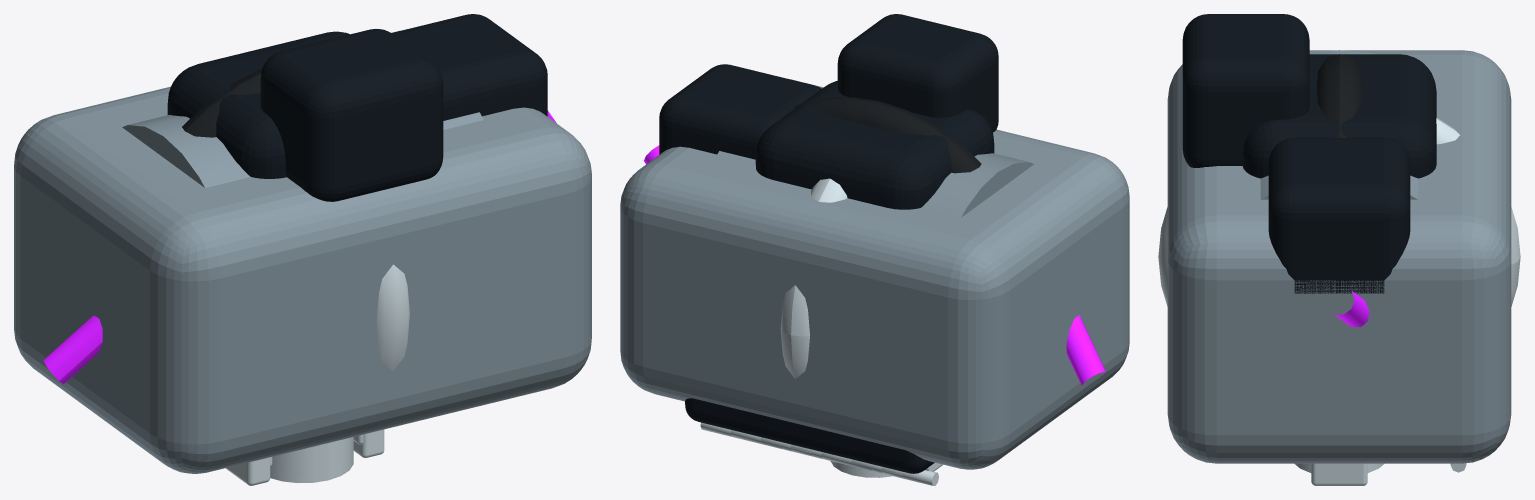
File: electrical_26.glb
3 views of the same model, side by side, from view 1: azimuth 30°, elevation 25°; view 2: azimuth 150°, elevation 25°; view 3: azimuth 270°, elevation 25° (orthographic). The views are drawn at different scales.
Parts seen in each view (by area): view 1: asset_mesh__electrical_1250__reference_body, asset_mesh__electrical_1304__electrical_connector, asset_mesh__electrical_1277__connector, asset_mesh__electrical_1277__sensor_body, asset_mesh__electrical_1304__electromagnetic_housing, asset_mesh__electrical_1277__sensor_probe, asset_mesh__electrical_1302__functional_ring, asset_mesh__electrical_1263__current_path, asset_mesh__electrical_1268__service_element, asset_mesh__electrical_1310__blade_1, asset_mesh__electrical_1310__blade_3; view 2: asset_mesh__electrical_1250__reference_body, asset_mesh__electrical_1277__sensor_body, asset_mesh__electrical_1304__electrical_connector, asset_mesh__electrical_1277__connector, asset_mesh__electrical_1247__connector_bank, asset_mesh__electrical_1304__electromagnetic_housing, asset_mesh__electrical_1268__service_element, asset_mesh__electrical_1302__functional_ring, asset_mesh__electrical_1263__current_path; view 3: asset_mesh__electrical_1250__reference_body, asset_mesh__electrical_1277__connector, asset_mesh__electrical_1304__electrical_connector, asset_mesh__electrical_1277__sensor_body, asset_mesh__electrical_1268__service_element, asset_mesh__electrical_1302__functional_ring, asset_mesh__electrical_1310__blade_3, asset_mesh__electrical_1304__electromagnetic_housing, asset_mesh__electrical_1263__current_path.
Boxes of the visible parts, x1,y1,x2,y2 form: asset_mesh__electrical_1250__reference_body: [14, 30, 591, 473]; asset_mesh__electrical_1304__electrical_connector: [260, 29, 443, 201]; asset_mesh__electrical_1277__connector: [391, 14, 547, 120]; asset_mesh__electrical_1277__sensor_body: [167, 31, 349, 178]; asset_mesh__electrical_1304__electromagnetic_housing: [122, 112, 483, 187]; asset_mesh__electrical_1277__sensor_probe: [270, 437, 353, 482]; asset_mesh__electrical_1302__functional_ring: [376, 264, 409, 371]; asset_mesh__electrical_1263__current_path: [43, 110, 556, 384]; asset_mesh__electrical_1268__service_element: [182, 68, 262, 137]; asset_mesh__electrical_1310__blade_1: [225, 457, 270, 485]; asset_mesh__electrical_1310__blade_3: [353, 429, 384, 457]; asset_mesh__electrical_1250__reference_body: [620, 79, 1129, 469]; asset_mesh__electrical_1277__sensor_body: [755, 81, 994, 209]; asset_mesh__electrical_1304__electrical_connector: [837, 14, 998, 132]; asset_mesh__electrical_1277__connector: [659, 64, 821, 159]; asset_mesh__electrical_1247__connector_bank: [685, 398, 934, 473]; asset_mesh__electrical_1304__electromagnetic_housing: [715, 151, 1033, 217]; asset_mesh__electrical_1268__service_element: [794, 97, 981, 173]; asset_mesh__electrical_1302__functional_ring: [780, 178, 847, 378]; asset_mesh__electrical_1263__current_path: [644, 145, 1106, 385]; asset_mesh__electrical_1250__reference_body: [1167, 50, 1511, 463]; asset_mesh__electrical_1277__connector: [1268, 137, 1410, 293]; asset_mesh__electrical_1304__electrical_connector: [1182, 14, 1309, 167]; asset_mesh__electrical_1277__sensor_body: [1242, 54, 1436, 178]; asset_mesh__electrical_1268__service_element: [1317, 54, 1361, 137]; asset_mesh__electrical_1302__functional_ring: [1158, 117, 1520, 306]; asset_mesh__electrical_1310__blade_3: [1311, 463, 1367, 485]; asset_mesh__electrical_1304__electromagnetic_housing: [1260, 50, 1418, 199]; asset_mesh__electrical_1263__current_path: [1335, 291, 1369, 327].
Size of the model in its own units: 1.28 by 1.04 by 0.815.
